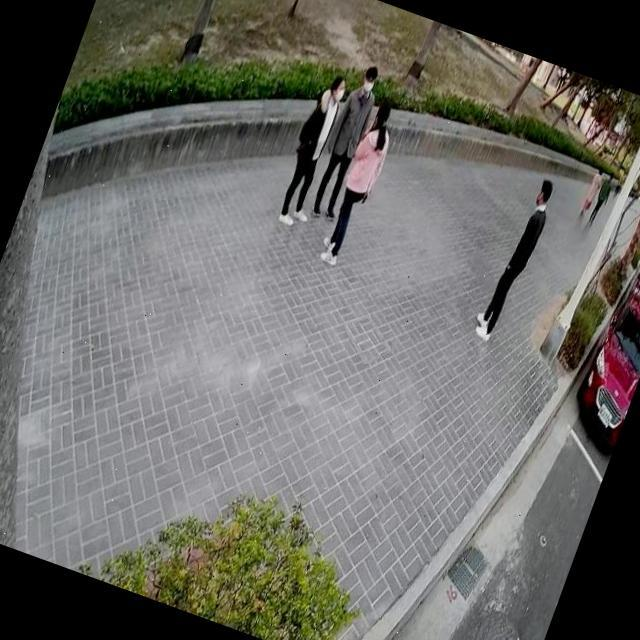person: (462, 162, 564, 350), (312, 89, 407, 273), (266, 65, 361, 233), (301, 57, 391, 226), (584, 164, 622, 232), (574, 158, 611, 224)
